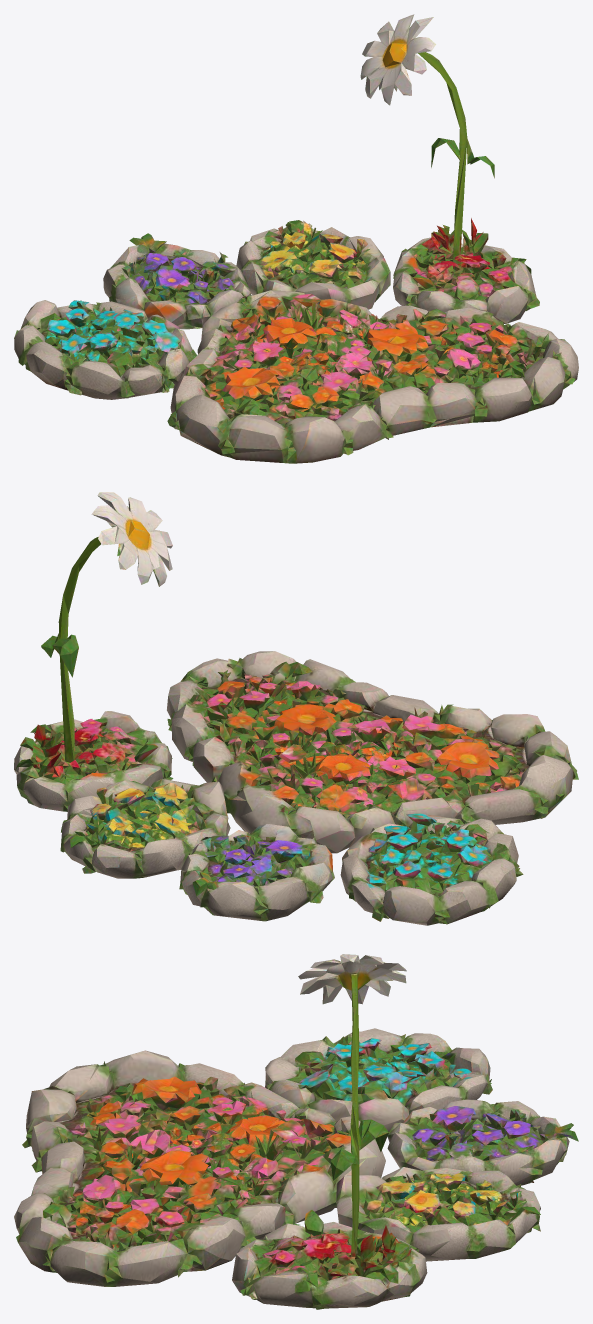
Rendered from pebble-blossom.glb.
3 views of the same model, one above another, from view 1: azimuth 30°, elevation 25°; view 2: azimuth 150°, elevation 25°; view 3: azimuth 270°, elevation 25° (orthographic). The views are drawn at different scales.
Visible parts, largest first — view 1: output_unwrapped; view 2: output_unwrapped; view 3: output_unwrapped.
Part boxes in pixels (x1=…): output_unwrapped: x1=14, y1=14, x2=578, y2=463; output_unwrapped: x1=14, y1=492, x2=578, y2=925; output_unwrapped: x1=14, y1=954, x2=578, y2=1309.
Bounding box in the file's own units: 1.9 × 1.09 × 1.75.
1 material, 1 textured.
